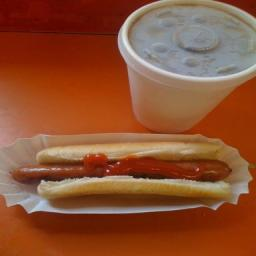hotdog: (10, 142, 232, 198)
